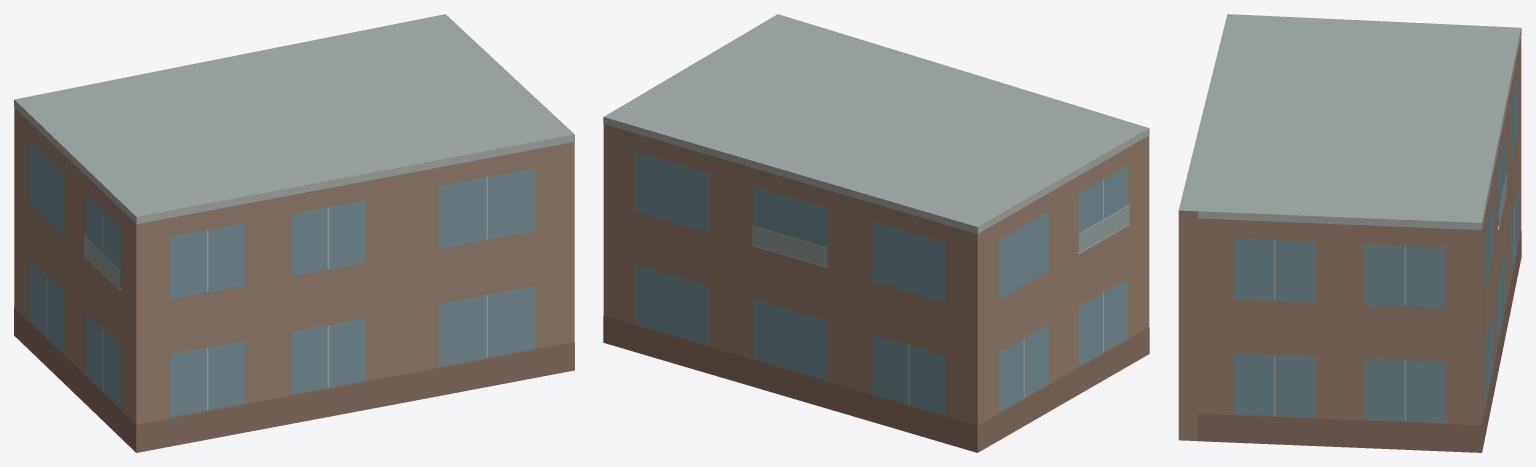
The model's file is survey-upis-32761866.glb.
3 views of the same model, side by side, from view 1: azimuth 30°, elevation 25°; view 2: azimuth 150°, elevation 25°; view 3: azimuth 270°, elevation 25° (orthographic). The views are drawn at different scales.
Parts seen in each view (by area): view 1: survey-upis-32761866.tmp; view 2: survey-upis-32761866.tmp; view 3: survey-upis-32761866.tmp.
Boxes of the visible parts, bbox=[...] form: survey-upis-32761866.tmp: bbox=[14, 14, 574, 452]; survey-upis-32761866.tmp: bbox=[603, 14, 1149, 452]; survey-upis-32761866.tmp: bbox=[1178, 14, 1521, 452].
Bounding box in the file's own units: 15.32 × 7.85 × 10.62.
